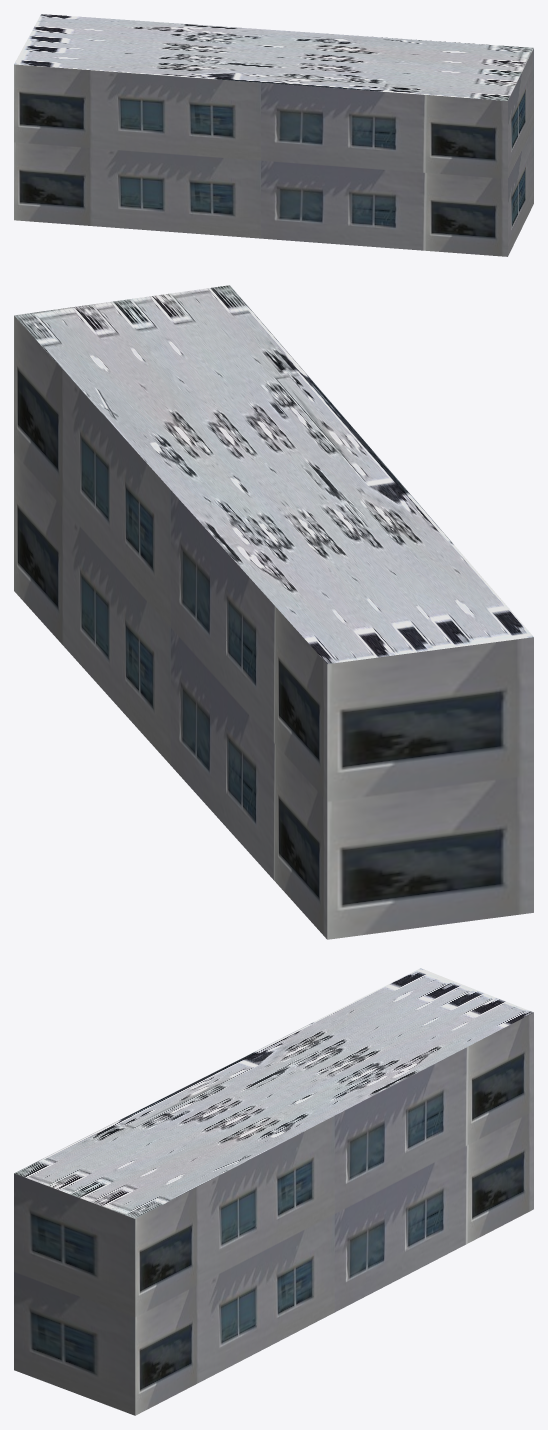
File: ResTex__4906.fbx
3 renders of one model, top to bottom at view 1: azimuth 30°, elevation 25°; view 2: azimuth 150°, elevation 25°; view 3: azimuth 270°, elevation 25°, orthographic. The views are drawn at different scales.
Parts seen in each view (by area): view 1: CityEngineMaterial_10_m, CityEngineMaterial_m; view 2: CityEngineMaterial_10_m, CityEngineMaterial_m; view 3: CityEngineMaterial_10_m, CityEngineMaterial_m.
Part boxes in pixels (box(x1,y1,x2,y2)): CityEngineMaterial_10_m: box(14, 48, 533, 256); CityEngineMaterial_m: box(14, 14, 533, 100); CityEngineMaterial_10_m: box(14, 316, 533, 939); CityEngineMaterial_m: box(14, 285, 533, 663); CityEngineMaterial_10_m: box(14, 1012, 533, 1415); CityEngineMaterial_m: box(14, 968, 533, 1218).
Bounding box in the file's own units: 16.4 × 6 × 14.36.
Materials: 2 (2 with a texture image).
